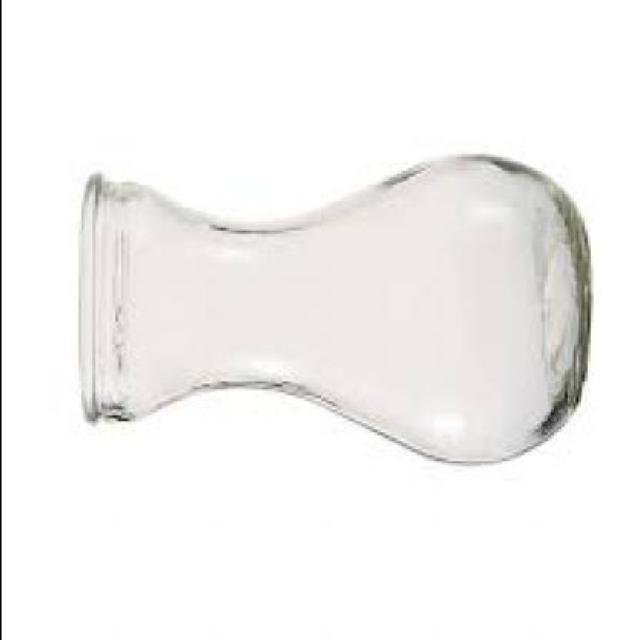glass: (77, 160, 589, 468)
